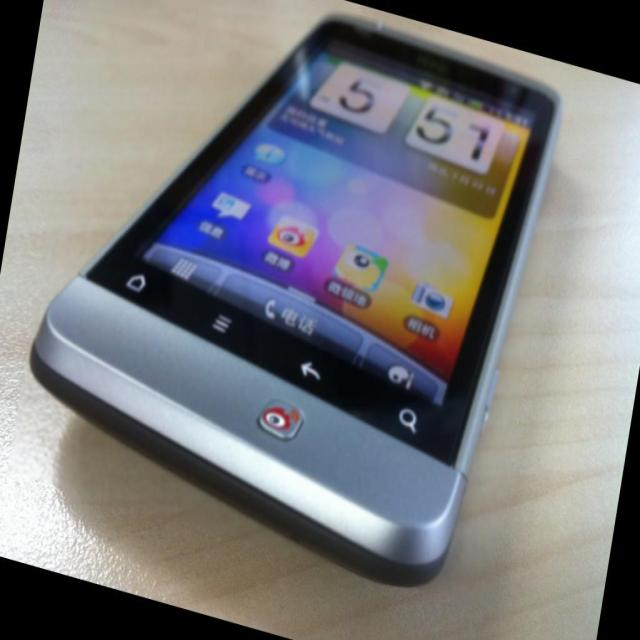handphone: (40, 27, 560, 561)
